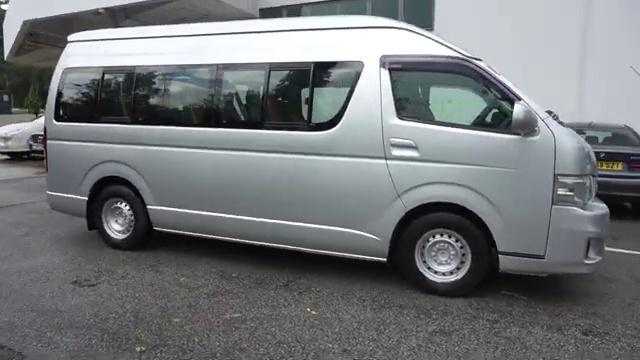Van: (40, 22, 613, 285)
